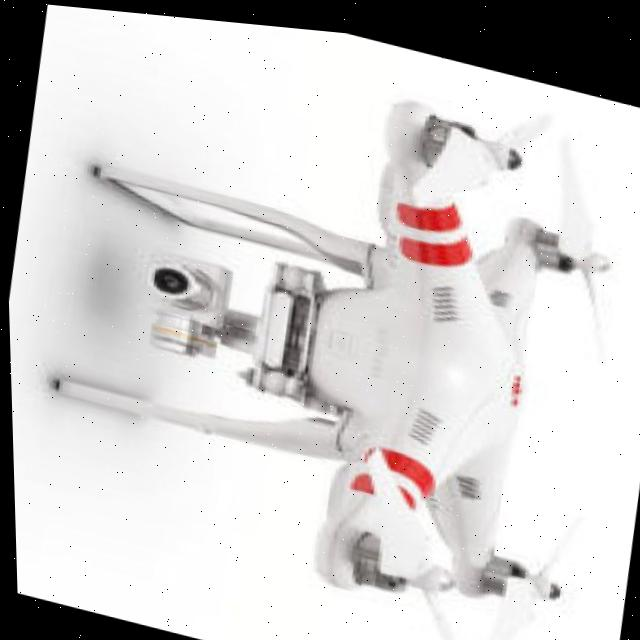drones: (1, 0, 640, 640)
